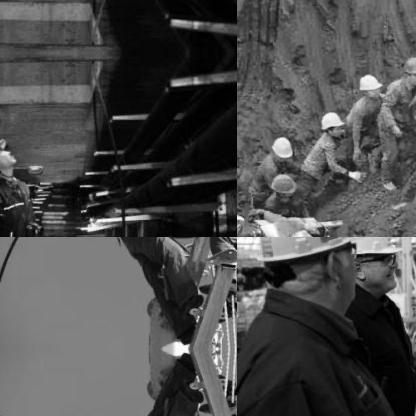Helmet: (247, 237, 374, 307), (326, 237, 404, 293), (268, 172, 300, 200), (356, 72, 380, 102), (271, 132, 294, 162), (318, 110, 342, 138), (0, 135, 15, 179), (401, 53, 415, 87)
